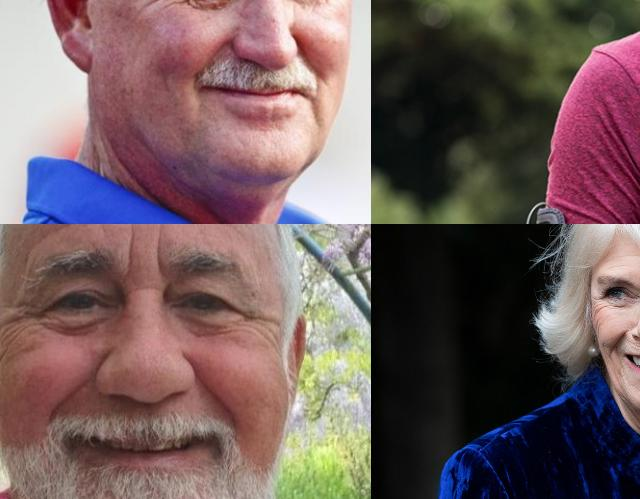crows_feet: (10, 303, 40, 333), (242, 305, 270, 335), (590, 292, 606, 314), (140, 0, 183, 8)
forehead: (604, 261, 634, 271), (61, 224, 95, 232), (152, 224, 171, 238), (124, 224, 140, 233)
frown_line: (123, 242, 139, 276), (129, 281, 159, 294), (152, 244, 164, 275)
gummy_smile: (194, 370, 232, 414), (54, 378, 88, 412), (606, 332, 630, 356)
smoker_lines: (633, 342, 640, 353)
